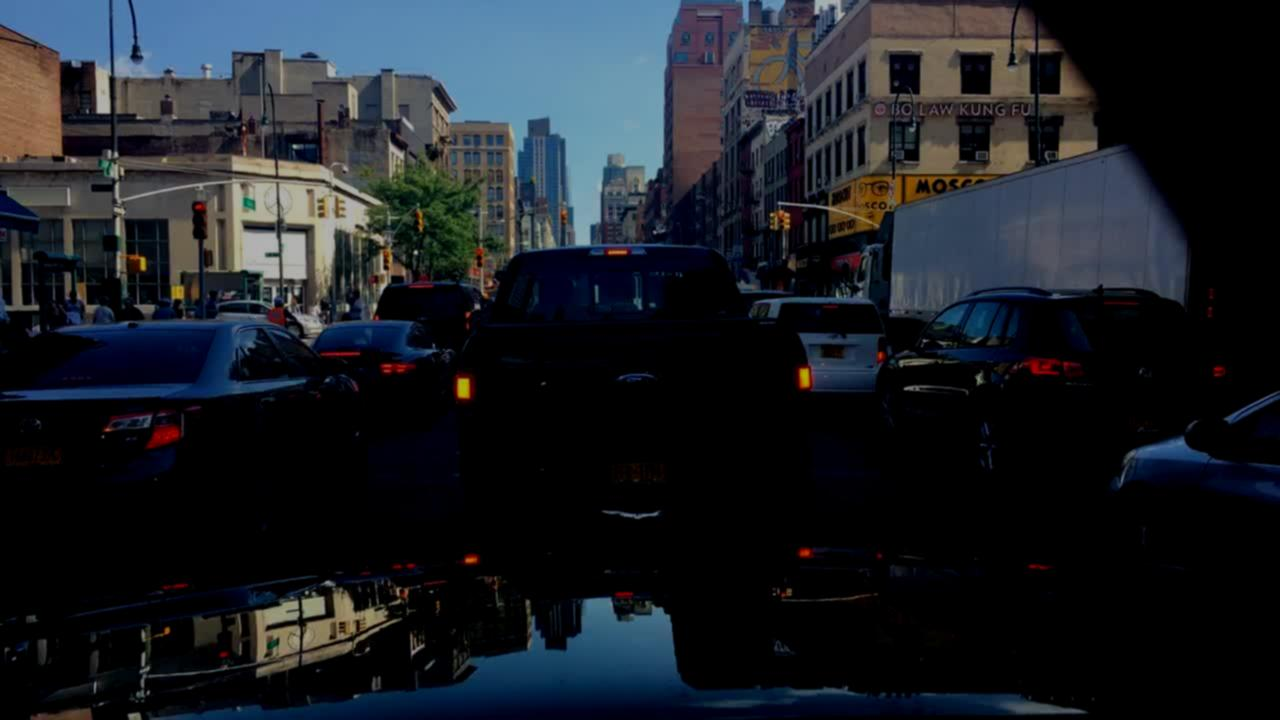Toyota: (15, 414, 50, 442)
Volkswagen: (1135, 363, 1162, 387)
ford: (607, 370, 661, 397)
